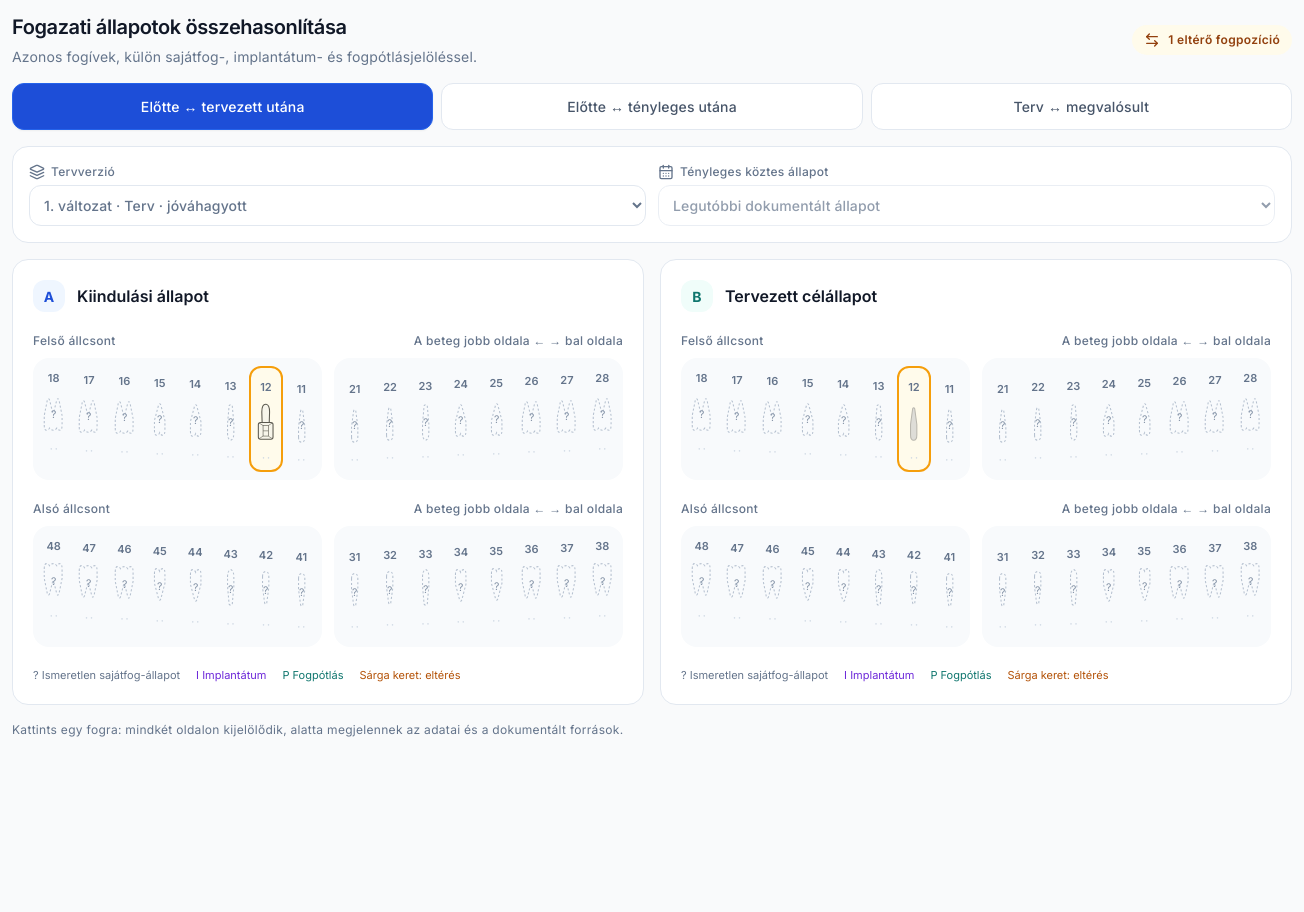
Test: graphical prosthesis planning › compares the selected tooth on both sides and switches between planned and actual states
Click the button "Terv ↔ megvalósult" at [1081, 106], box [871, 83, 1292, 130]
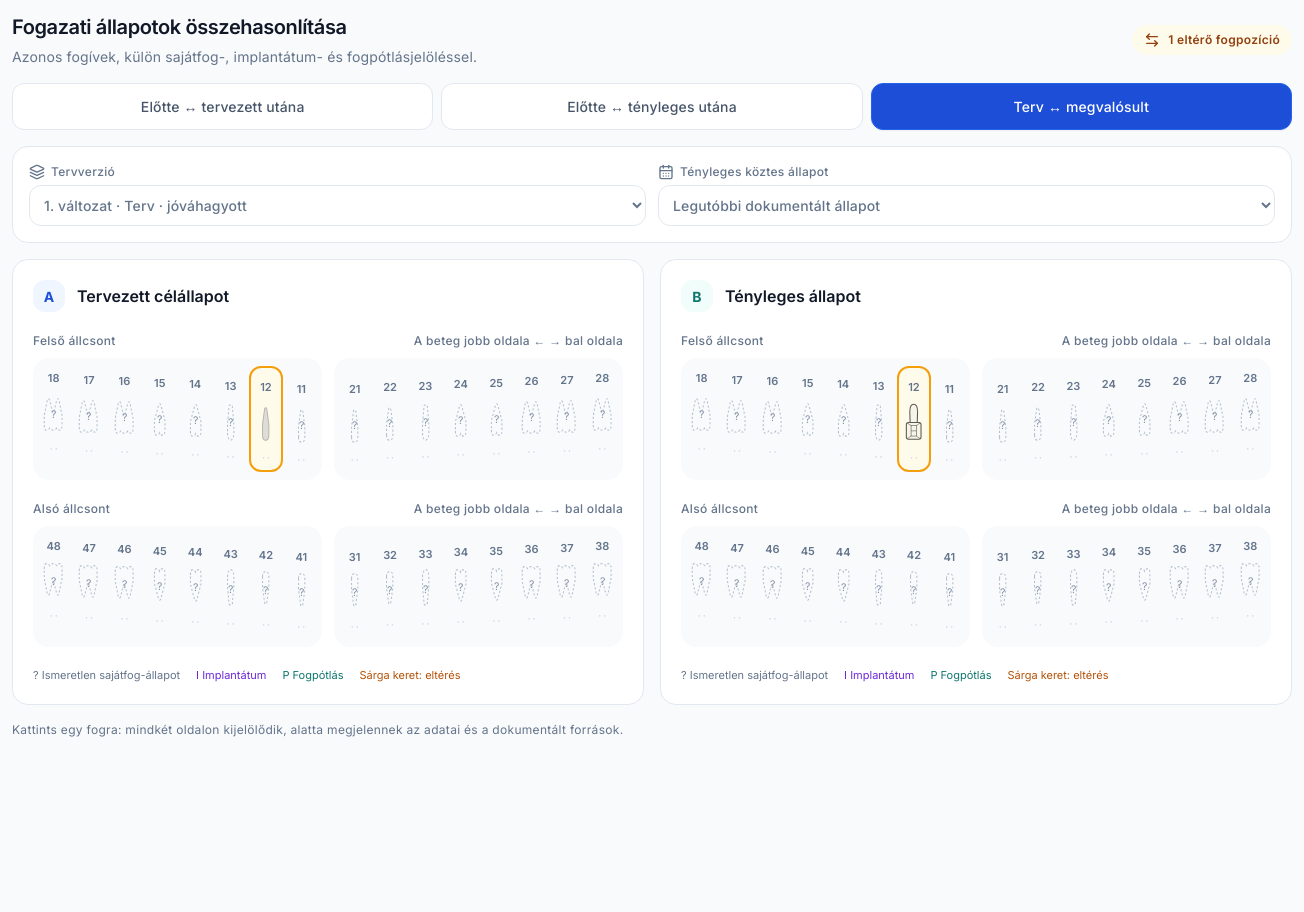
Click the button named "12. fog" at [266, 419], box [249, 366, 283, 472]
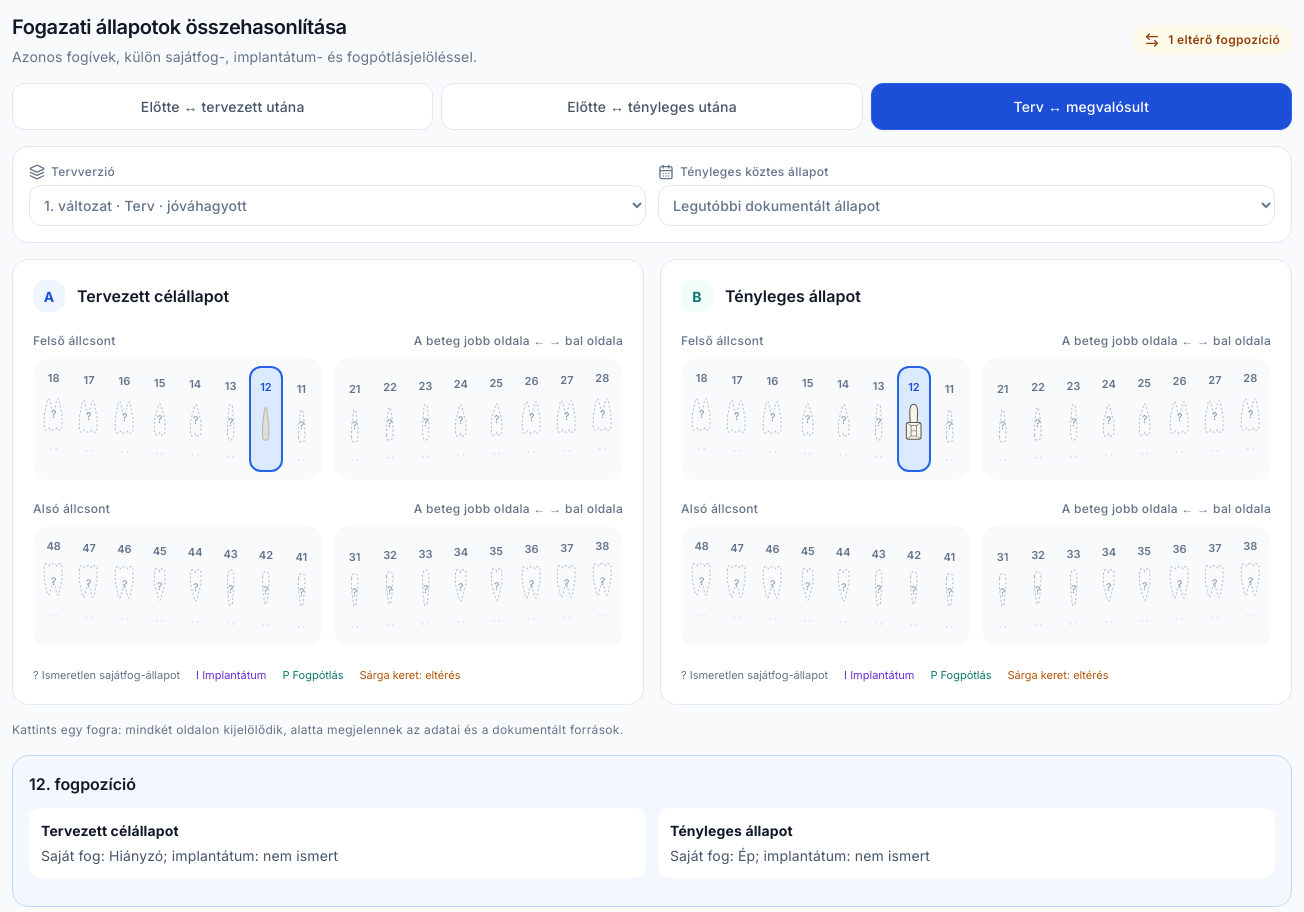
Now the message shows "Saját fog: Hiányzó", box [41, 846, 338, 864]
Now the message shows "Saját fog: Ép", box [670, 846, 930, 864]
